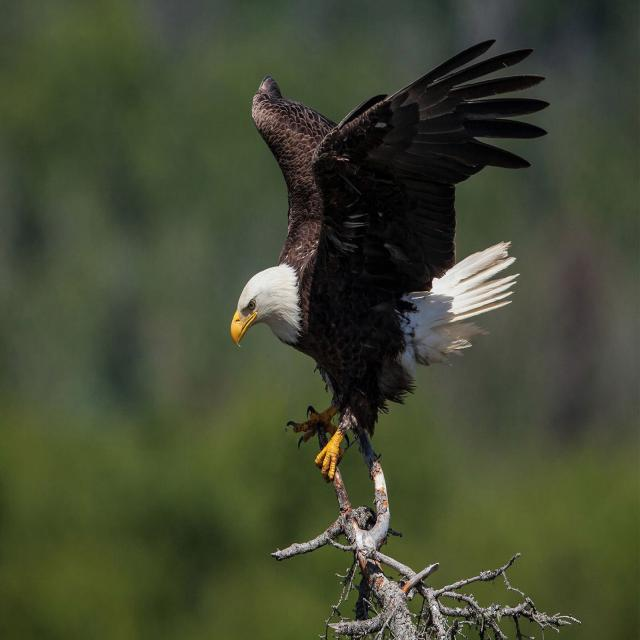eagle: (232, 40, 549, 481)
